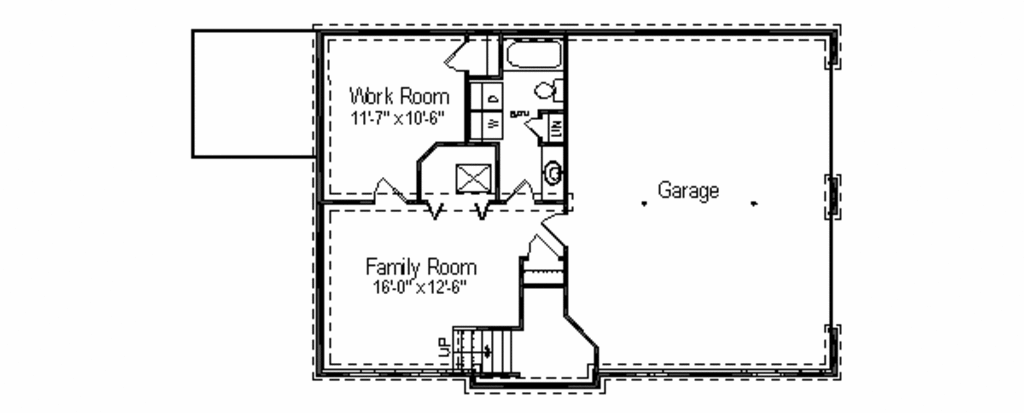door: (540, 210, 575, 251), (365, 175, 404, 208), (441, 38, 472, 79), (522, 233, 559, 264), (505, 180, 535, 208)
large_sink: (527, 77, 564, 107)
small_sink: (540, 147, 569, 206)
stairs: (432, 328, 523, 381)
tub: (498, 38, 571, 76)
